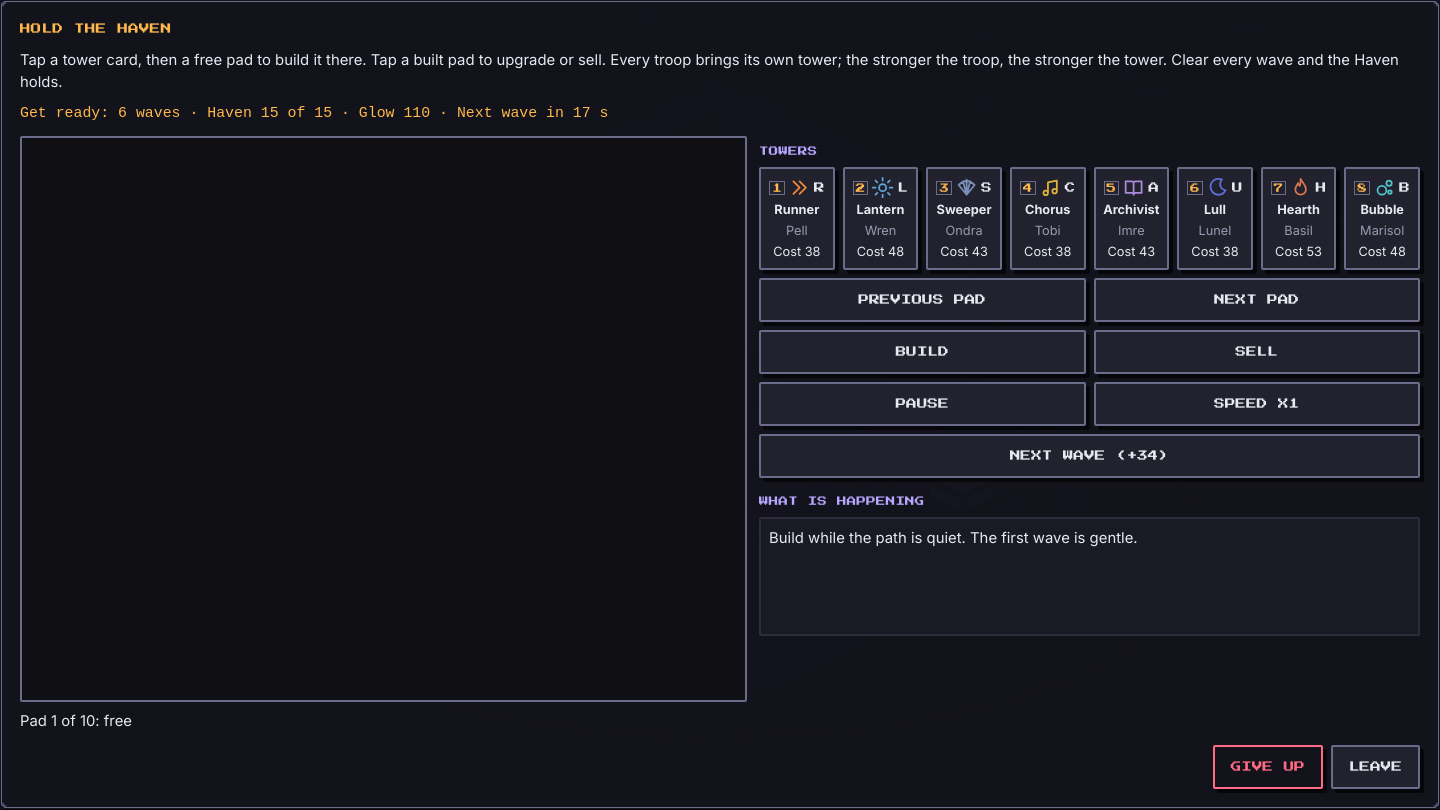
it: Hold the Haven screen: the clock › runs 40 ticks per real second at x2, set by the X key or the Speed button
Press x in the element with test id "td-board", box [20,136,747,702]
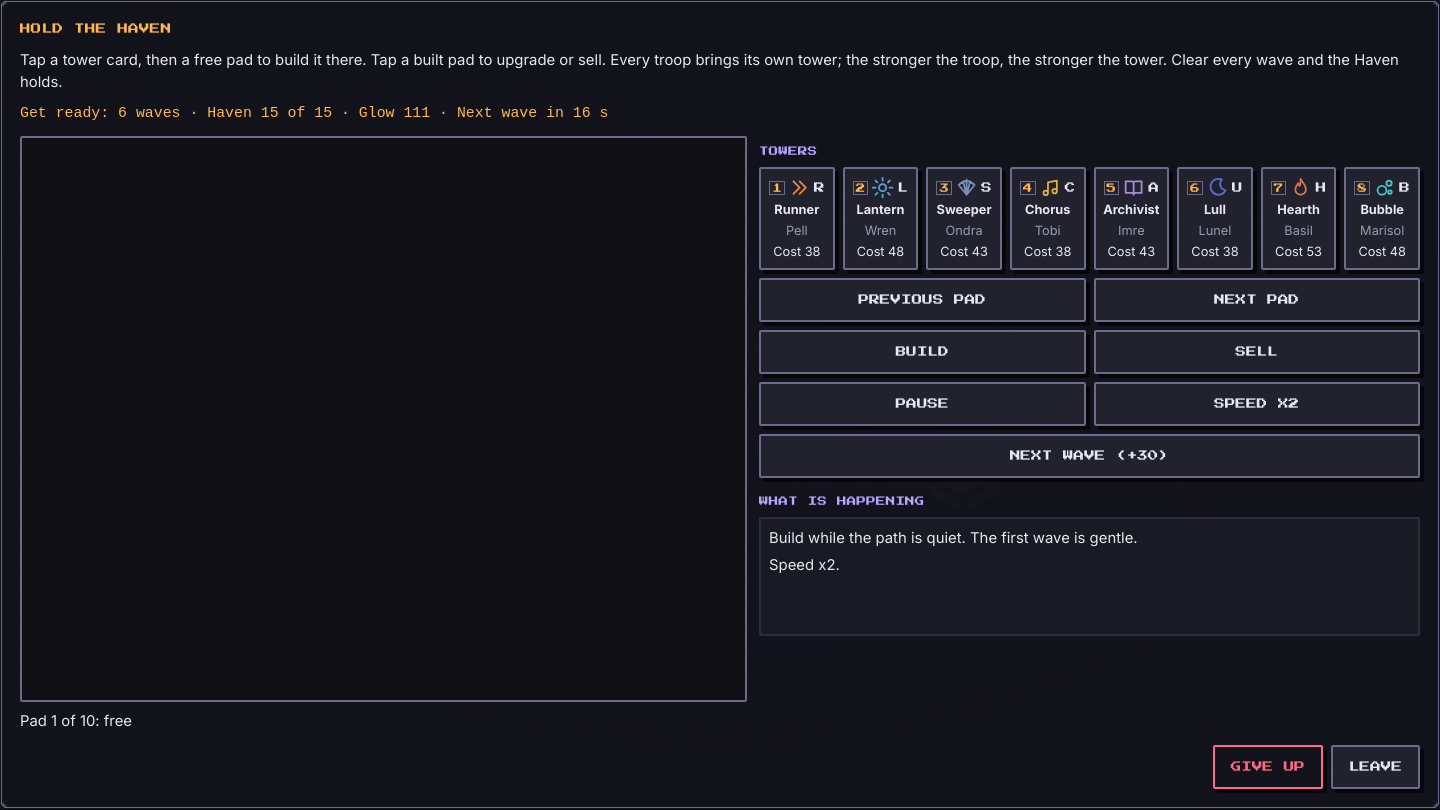
Expected: the button "Speed x2" is shown
Click the button "Speed x2" at (1257, 404), box [1094,382,1420,426]
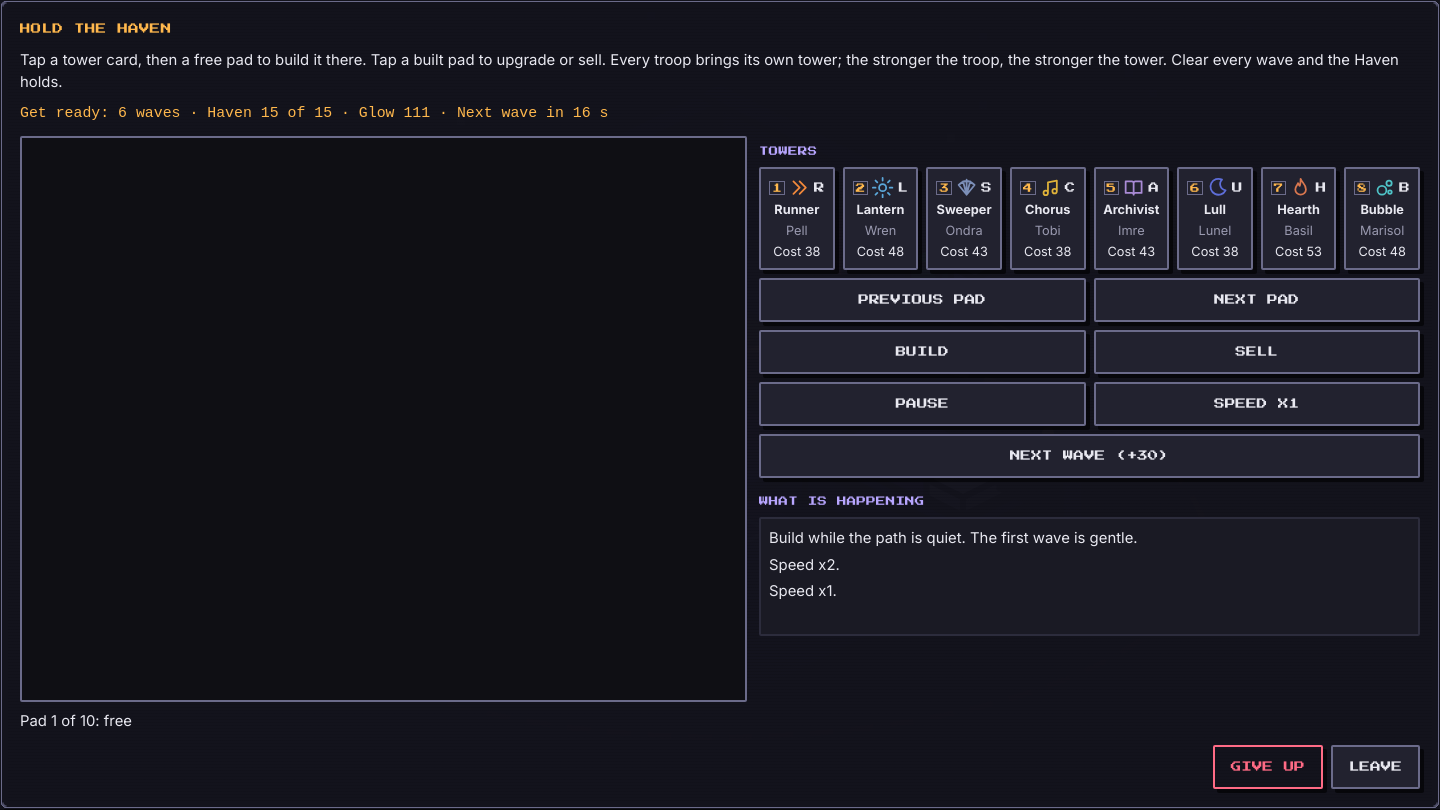
Expected: the button "Speed x1" is shown, [1094,382,1420,426]
